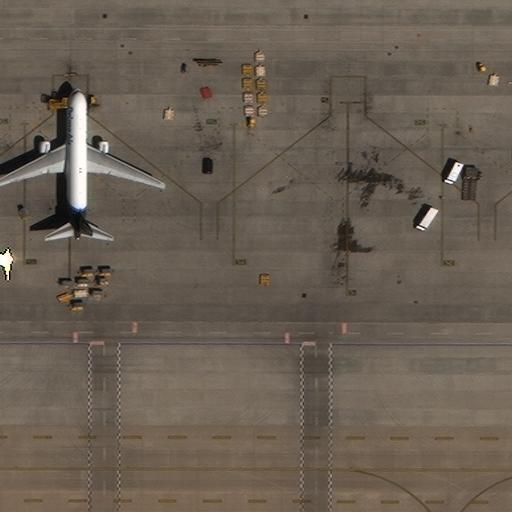Large Civil Transport: (0, 87, 163, 240)
